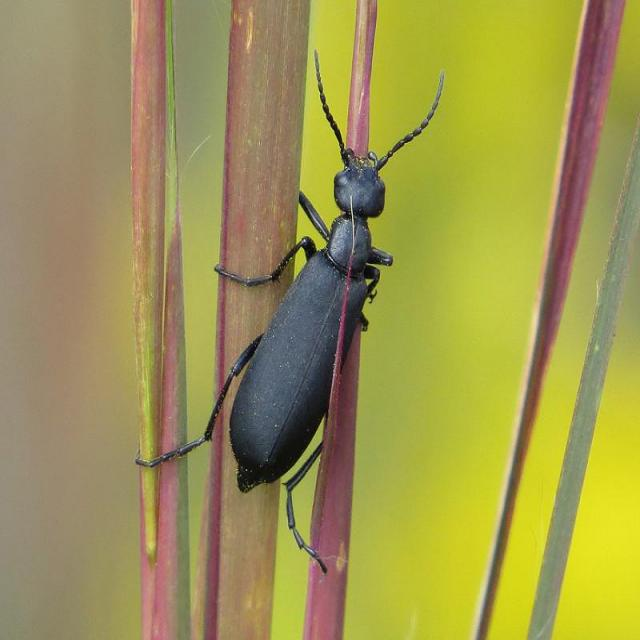BlisterBeetle-Adult-: (201, 32, 454, 582)
